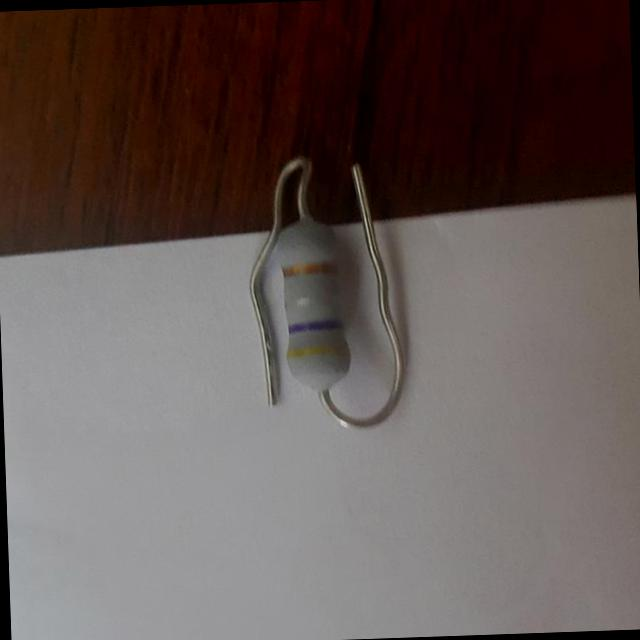Resistor: (277, 221, 350, 391)
brown: (282, 262, 338, 278)
purple: (287, 321, 344, 332)
silver: (284, 295, 339, 308)
yellow: (288, 347, 349, 356)
